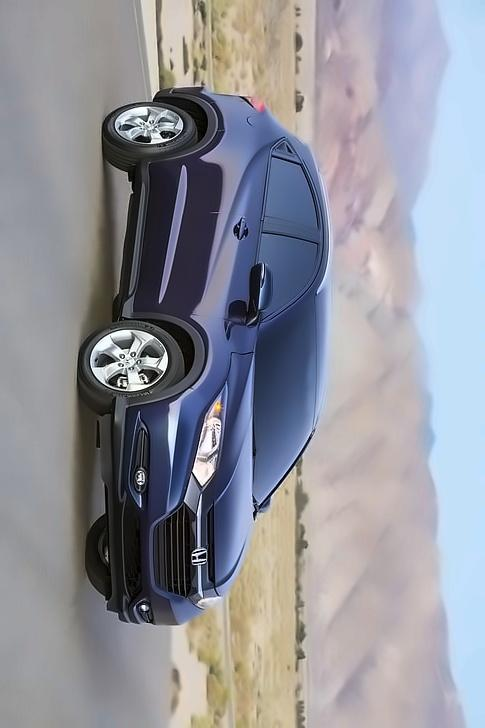Car hood: (210, 329, 259, 615)
Driver-s door - -F-R-: (102, 224, 337, 331)
Fender - -F-R-: (106, 300, 263, 418)
Fender - -R-R-: (147, 85, 293, 172)
Front bumper: (93, 392, 204, 637)
Headlight - -R-: (185, 383, 229, 492)
Passenger-s door - -R-R-: (117, 140, 346, 255)
Side bumper - -R-: (92, 153, 172, 328)
Side mirror - -R-: (240, 266, 278, 329)
